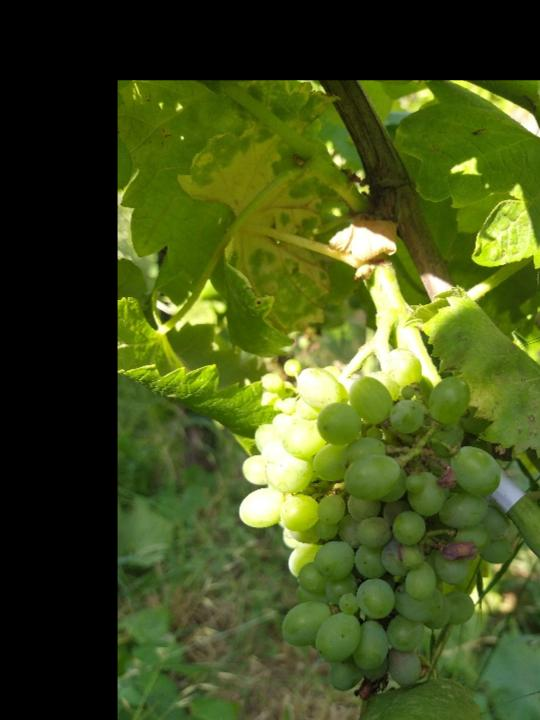grape: (236, 347, 503, 692)
